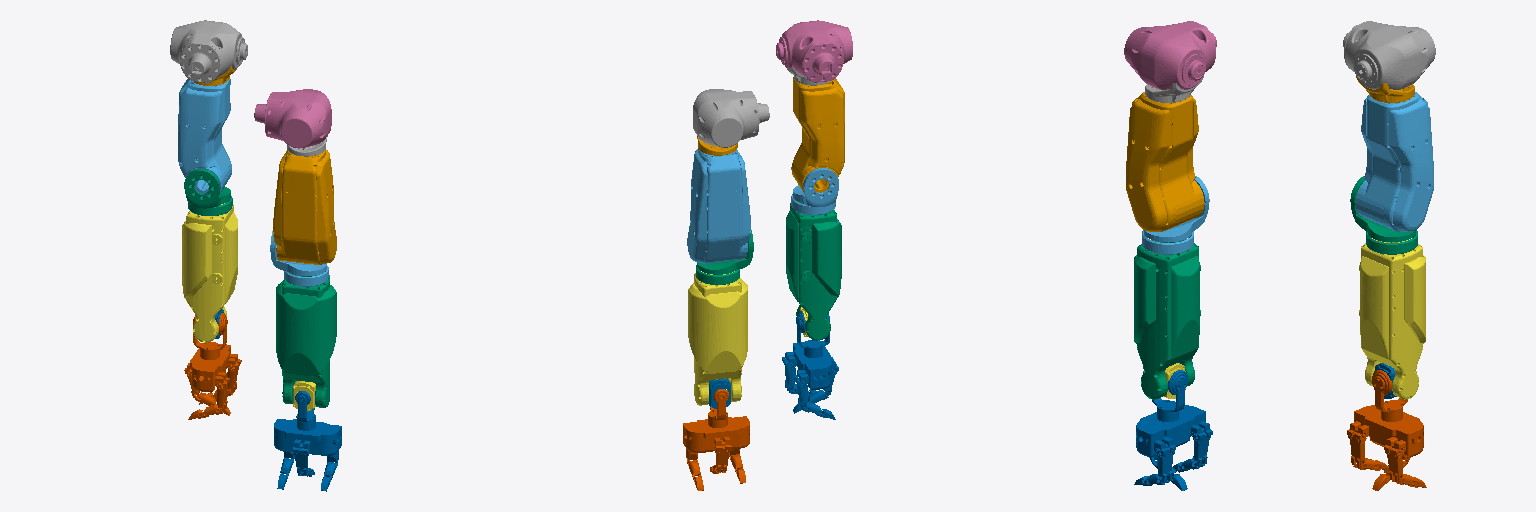
robot.urdf — ocean1:
<?xml version='1.0' encoding='utf-8'?>
<robot name="ocean1">

<!-- ~~~~~~~~~~~~~~~~~~~~~~~~~
TODO: verify conversion from 
axis-angle in yaml to rpy
~~~~~~~~~~~~~~~~~~~~~~~~~ -->

<!-- ~~~~~~~~~~~~~~~~~~~~~~~~~
LINKS: BODY
~~~~~~~~~~~~~~~~~~~~~~~~~ -->

  <link name="ground">
    <inertial>
      <origin xyz="0.0 0.0 0.0" rpy="0.0 0.0 0.0" />
      <mass value="0.000001" />
      <inertia ixx="0.000001" iyy="0.000001" izz="0.000001" ixy="0.0" ixz="0.0" iyz="0.0" />
    </inertial>
  </link>

  <link name="PrisX">
    <inertial>
      <origin xyz="0.0 0.0 0.0" rpy="0.0 0.0 0.0" />
      <mass value="0.000001" />
      <inertia ixx="0.000001" iyy="0.000001" izz="0.000001" ixy="0.0" ixz="0.0" iyz="0.0" />
    </inertial>
  </link>

  <link name="PrisY">
    <inertial>
      <origin xyz="0.0 0.0 0.0" rpy="0.0 0.0 0.0" />
      <mass value="0.000001" />
      <inertia ixx="0.000001" iyy="0.000001" izz="0.000001" ixy="0.0" ixz="0.0" iyz="0.0" />
    </inertial>
  </link>

  <link name="PrisZ">
    <inertial>
      <origin xyz="0.0 0.0 0.0" rpy="0.0 0.0 0.0" />
      <mass value="0.000001" />
      <inertia ixx="0.000001" iyy="0.000001" izz="0.000001" ixy="0.0" ixz="0.0" iyz="0.0" />
    </inertial>
  </link>

  <link name="RotZ">
    <inertial>
      <origin xyz="0.0 0.0 0.0" rpy="0.0 0.0 0.0" />
      <mass value="0.000001" />
      <inertia ixx="0.000001" iyy="0.000001" izz="0.000001" ixy="0.0" ixz="0.0" iyz="0.0" />
    </inertial>
  </link>

  <link name="RotY">
    <inertial>
      <origin xyz="0.0 0.0 0.0" rpy="0.0 0.0 0.0" />
      <mass value="0.000001" />
      <inertia ixx="0.000001" iyy="0.000001" izz="0.000001" ixy="0.0" ixz="0.0" iyz="0.0" />
    </inertial>
  </link>

  <link name="Body">
    <inertial>
      <origin xyz="-0.034400 -0.001100 0.134400" rpy="0.0 0.0 0.0" />
      <mass value="150.810000" />
      <inertia ixx="0.291400" iyy="0.458290" izz="0.369260" ixy="0.0" ixz="0.0" iyz="0.0" />
    </inertial>
    <visual>
      <!-- TODO: FIX SCALING & TEST ORIGIN -->
      <origin xyz="0.095 0 -0.03" rpy="0.0 0.0 0.0" />
      <geometry>
        <!-- <box size="0.1 0.1 0.1" /> -->
        <!-- <mesh filename="ocean1_graphics/body_paint.obj" scale="0.85 0.85 0.85" /> -->
        <!-- <mesh filename="ocean1_graphics/body_paint_no_lamp.obj" scale="0.85 0.85 0.85" /> -->
        <mesh filename="ocean1_graphics/O2_body_new_head.obj" scale="0.85 0.85 0.85" />
      </geometry>
    </visual>
    <!-- <visual>
      <origin xyz="-0.034400 -0.001100 0.134400" rpy="0.0 0.0 0.0" />
      <geometry>
        <box size="0.1 0.1 0.1" />
      </geometry>
    </visual> -->
  </link>

<!-- ~~~~~~~~~~~~~~~~~~~~~~~~~
LINKS: LEFT ARM
~~~~~~~~~~~~~~~~~~~~~~~~~ -->

  <link name="shoulderT_left">
    <inertial>
      <origin xyz="0.022 0.0 0.0" rpy="0.0 0.0 0.0" />
      <mass value="3.12" />
      <inertia ixx="0.00466" iyy="0.00375" izz="0.00288" ixy="0.0" ixz="0.0" iyz="0.0" />
    </inertial>
    <visual>
      <origin xyz="0.0 0.0 0.0" rpy="0.0 0.0 0.0" />
      <geometry>
        <mesh filename="ocean1_graphics/shoulderT_left.obj"/>
      </geometry>
    </visual>
  </link>

  <link name="shoulderL_left">
    <inertial>
      <origin xyz="0.0 -0.021 0.054" rpy="0.0 0.0 0.0" />
      <mass value="0.99" />
      <inertia ixx="0.00466" iyy="0.00375" izz="0.00288" ixy="0.0" ixz="0.0" iyz="0.0" />
    </inertial>
    <visual>
      <origin xyz="0.0 0.0 0.0" rpy="0.0 0.0 0.0" />
      <geometry>
        <mesh filename="ocean1_graphics/shoulderL_left.obj"/>
      </geometry>
    </visual>
  </link>

  <link name="upperArm_left">
    <inertial>
      <origin xyz="0.0 0.0 -0.088" rpy="0.0 0.0 0.0" />
      <mass value="4.08" />
      <inertia ixx="0.00466" iyy="0.00375" izz="0.00288" ixy="0.0" ixz="0.0" iyz="0.0" />
    </inertial>
    <visual>
      <origin xyz="0.0 0.0 0.0" rpy="0.0 0.0 0.0" />
      <geometry>
        <mesh filename="ocean1_graphics/upperArm_left.obj"/>
      </geometry>
    </visual>
  </link>

  <link name="elbow_left">
    <inertial>
      <origin xyz="0.027 0.0 0.047" rpy="0.0 0.0 0.0" />
      <mass value="0.974" />
      <inertia ixx="0.00466" iyy="0.00375" izz="0.00288" ixy="0.0" ixz="0.0" iyz="0.0" />
    </inertial>
    <visual>
      <origin xyz="0.0 0.0 0.0" rpy="0.0 0.0 0.0" />
      <geometry>
        <mesh filename="ocean1_graphics/elbow_left.obj"/>
      </geometry>
    </visual>
  </link>

  <link name="lowerArm_left">
    <inertial>
      <origin xyz="0.0 0.0 -0.138" rpy="0.0 0.0 0.0" />
      <mass value="3.71" />
      <inertia ixx="0.00466" iyy="0.00375" izz="0.00288" ixy="0.0" ixz="0.0" iyz="0.0" />
    </inertial>
    <visual>
      <origin xyz="0.0 0.0 0.0" rpy="0.0 0.0 0.0" />
      <geometry>
        <mesh filename="ocean1_graphics/lowerArm_left.obj"/>
      </geometry>
    </visual>
  </link>

  <link name="wristDiff_left">
    <inertial>
      <origin xyz="0.0 0.0 0.0" rpy="0.0 0.0 0.0" />
      <mass value="0.22" />
      <inertia ixx="0.00466" iyy="0.00375" izz="0.00288" ixy="0.0" ixz="0.0" iyz="0.0" />
    </inertial>
    <visual>
      <origin xyz="0.0 0.0 0.0" rpy="0.0 0.0 0.0" />
      <geometry>
        <mesh filename="ocean1_graphics/wristDiff_left.obj"/>
      </geometry>
    </visual>
  </link>

  <link name="endEffector_left">
    <inertial>
      <origin xyz="0.0 0.0 0.01" rpy="0.0 0.0 0.0" />
      <mass value="2.7874" />
      <inertia ixx="0.00466" iyy="0.00375" izz="0.00288" ixy="0.0" ixz="0.0" iyz="0.0" />
    </inertial>
    <visual>
      <origin xyz="0.0 0.0 0.0" rpy="0.0 0.0 0.0" />
      <geometry>
        <!-- <mesh filename="ocean1_graphics/endEffectorWPalm_left.obj"/> -->
        <!-- <mesh filename="ocean1_graphics/HandO2.obj"/> -->
        <mesh filename="ocean1_graphics/HandO2_small.obj"/>
        <!-- <mesh filename="ocean1_graphics/HandO2_with_flag.obj"/> -->
        <!-- <mesh filename="ocean1_graphics/HandO2_open.obj"/> -->
      </geometry>
    </visual>
    <!-- TODO: implement aabb collision detection (or make coarser collision mesh) -->
    <!-- <collision> -->
      <!-- <origin xyz="0.0 0.0 0.0" rpy="0.0 0.0 0.0" /> -->
      <!-- <geometry> -->
        <!-- <mesh filename="ocean1_graphics/endEffectorWPalm_left.obj"/> -->
        <!-- <mesh filename="ocean1_graphics/HandO2.obj"/> -->
        <!-- <mesh filename="ocean1_graphics/HandO2_small.obj"/> -->
      <!-- </geometry> -->
    <!-- </collision> -->
  </link>

<!-- ~~~~~~~~~~~~~~~~~~~~~~~~~
LINKS: RIGHT ARM
~~~~~~~~~~~~~~~~~~~~~~~~~ -->

  <link name="shoulderT_right">
    <inertial>
      <origin xyz="-0.022 0.0 0.0" rpy="0.0 0.0 0.0" />
      <mass value="3.12" />
      <inertia ixx="0.00466" iyy="0.00375" izz="0.00288" ixy="0.0" ixz="0.0" iyz="0.0" />
    </inertial>
    <visual>
      <origin xyz="0.0 0.0 0.0" rpy="0.0 0.0 0.0" />
      <geometry>
        <mesh filename="ocean1_graphics/shoulderT_right.obj"/>
      </geometry>
    </visual>
  </link>

  <link name="shoulderL_right">
    <inertial>
      <origin xyz="0.0 -0.021 0.054" rpy="0.0 0.0 0.0" />
      <mass value="0.99" />
      <inertia ixx="0.00466" iyy="0.00375" izz="0.00288" ixy="0.0" ixz="0.0" iyz="0.0" />
    </inertial>
    <visual>
      <origin xyz="0.0 0.0 0.0" rpy="0.0 0.0 0.0" />
      <geometry>
        <mesh filename="ocean1_graphics/shoulderL_right.obj"/>
      </geometry>
    </visual>
  </link>

  <link name="upperArm_right">
    <inertial>
      <origin xyz="0.0 0.0 -0.088" rpy="0.0 0.0 0.0" />
      <mass value="4.08" />
      <inertia ixx="0.00466" iyy="0.00375" izz="0.00288" ixy="0.0" ixz="0.0" iyz="0.0" />
    </inertial>
    <visual>
      <origin xyz="0.0 0.0 0.0" rpy="0.0 0.0 0.0" />
      <geometry>
        <mesh filename="ocean1_graphics/upperArm_right.obj"/>
      </geometry>
    </visual>
  </link>

  <link name="elbow_right">
    <inertial>
      <origin xyz="-0.027 0.0 0.047" rpy="0.0 0.0 0.0" />
      <mass value="0.974" />
      <inertia ixx="0.00466" iyy="0.00375" izz="0.00288" ixy="0.0" ixz="0.0" iyz="0.0" />
    </inertial>
    <visual>
      <origin xyz="0.0 0.0 0.0" rpy="0.0 0.0 0.0" />
      <geometry>
        <mesh filename="ocean1_graphics/elbow_right.obj"/>
      </geometry>
    </visual>
  </link>

  <link name="lowerArm_right">
    <inertial>
      <origin xyz="0.0 0.0 -0.138" rpy="0.0 0.0 0.0" />
      <mass value="3.71" />
      <inertia ixx="0.00466" iyy="0.00375" izz="0.00288" ixy="0.0" ixz="0.0" iyz="0.0" />
    </inertial>
    <visual>
      <origin xyz="0.0 0.0 0.0" rpy="0.0 0.0 0.0" />
      <geometry>
        <mesh filename="ocean1_graphics/lowerArm_right.obj"/>
      </geometry>
    </visual>
  </link>

  <link name="wristDiff_right">
    <inertial>
      <origin xyz="0.0 0.0 0.0" rpy="0.0 0.0 0.0" />
      <mass value="0.22" />
      <inertia ixx="0.00466" iyy="0.00375" izz="0.00288" ixy="0.0" ixz="0.0" iyz="0.0" />
    </inertial>
    <visual>
      <origin xyz="0.0 0.0 0.0" rpy="0.0 0.0 0.0" />
      <geometry>
        <mesh filename="ocean1_graphics/wristDiff_right.obj"/>
      </geometry>
    </visual>
  </link>

  <link name="endEffector_right">
    <inertial>
      <origin xyz="0.0 0.0 0.01" rpy="0.0 0.0 0.0" />
      <mass value="2.7874" />
      <inertia ixx="0.00466" iyy="0.00375" izz="0.00288" ixy="0.0" ixz="0.0" iyz="0.0" />
    </inertial>
    <visual>
      <origin xyz="0.0 0.0 0.0" rpy="0.0 0.0 0.0" />
      <geometry>
        <!-- <mesh filename="ocean1_graphics/endEffectorWPalm_right.obj"/> -->
        <!-- <mesh filename="ocean1_graphics/HandO2.obj"/> -->
        <mesh filename="ocean1_graphics/HandO2_small.obj"/>
        <!-- <mesh filename="ocean1_graphics/HandO2_with_flag.obj"/> -->
        <!-- <mesh filename="ocean1_graphics/HandO2_open.obj"/> -->
        <!-- <mesh filename="ocean1_graphics/HandO2_half_open.obj"/> -->
      </geometry>
    </visual>
    <!-- TODO: implement aabb collision detection (or make coarser collision mesh) -->
    <!-- <collision> -->
      <!-- <origin xyz="0.0 0.0 0.0" rpy="0.0 0.0 0.0" /> -->
      <!-- <geometry> -->
        <!-- <mesh filename="ocean1_graphics/endEffectorWPalm_right.obj"/> -->
        <!-- <mesh filename="ocean1_graphics/HandO2.obj"/> -->
        <!-- <mesh filename="ocean1_graphics/HandO2_small.obj"/> -->
        <!-- <mesh filename="ocean1_graphics/HandO2_open.obj"/> -->
      <!-- </geometry> -->
    <!-- </collision> -->
  </link>

<!-- ~~~~~~~~~~~~~~~~~~~~~~~~~
JOINTS: BODY
~~~~~~~~~~~~~~~~~~~~~~~~~ -->

  <joint name="PrisX_Joint" type="prismatic">
    <origin rpy="0.0 0.0 0.0" xyz="0.0 0.0 0.0" />
    <parent link="ground" />
    <child link="PrisX" />
    <axis xyz="1 0 0" />
    <!-- TODO: check that calibration mimics initial_joint_q behavior -->
    <!-- <calibration falling="2.84851" /> -->
    <!-- TODO: change lower, upper, effort, and velocity limits -->
    <limit lower="-500.00" upper="500.00" effort="4000" velocity="1000" />
  </joint>

  <joint name="PrisY_Joint" type="prismatic">
    <origin rpy="0.0 0.0 0.0" xyz="0.0 0.0 0.0" />
    <parent link="PrisX" />
    <child link="PrisY" />
    <axis xyz="0 1 0" />
    <!-- <calibration falling="1.94773" /> -->
    <limit lower="-500.00" upper="500.00" effort="4000" velocity="1000" />
  </joint>

  <joint name="PrisZ_Joint" type="prismatic">
    <origin rpy="0.0 0.0 0.0" xyz="0.0 0.0 0.0" />
    <parent link="PrisY" />
    <child link="PrisZ" />
    <axis xyz="0 0 1" />
    <!-- <calibration falling="0.703213" /> -->
    <limit lower="-500.00" upper="500.00" effort="4000" velocity="1000" />
  </joint>

  <joint name="RotZ_Joint" type="revolute">
    <origin rpy="0.0 0.0 0.0" xyz="0.0 0.0 0.0" />
    <parent link="PrisZ" />
    <child link="RotZ" />
    <axis xyz="0 0 1" />
    <!-- <calibration falling="-185.3157504" /> -->
    <limit lower="-500.00" upper="500.00" effort="4000" velocity="1000" />
  </joint>

  <joint name="RotY_Joint" type="revolute">
    <origin rpy="0.0 0.0 0.0" xyz="0.0 0.0 0.0" />
    <parent link="RotZ" />
    <child link="RotY" />
    <axis xyz="0 1 0" />
    <!-- <calibration falling="0.0"/> -->
    <limit lower="-500.00" upper="500.00" effort="4000" velocity="1000" />
  </joint>

  <joint name="RotX_Joint" type="revolute">
    <origin rpy="0.0 0.0 0.0" xyz="0.0 0.0 0.0" />
    <parent link="RotY" />
    <child link="Body" />
    <axis xyz="1 0 0" />
    <!-- <calibration falling="0.0"/> -->
    <limit lower="-500.00" upper="500.00" effort="4000" velocity="1000" />
  </joint>

<!-- ~~~~~~~~~~~~~~~~~~~~~~~~~
JOINTS: LEFT ARM
~~~~~~~~~~~~~~~~~~~~~~~~~ -->

  <joint name="shoulderT_left_Joint" type="revolute">
    <origin rpy="-3.1415927 0.0 -2.3561935" xyz="0.5768673 0.194584 -0.1893698"/>
    <parent link="Body" />
    <child link="shoulderT_left" />
    <axis xyz="1 0 0" />
    <calibration falling="-22.530476674"/>
    <limit lower="-500.00" upper="500.00" effort="4000" velocity="1000" />
  </joint>

  <joint name="shoulderL_left_Joint" type="revolute">
    <origin rpy="0.0 0.0 0.0" xyz="0.0 0.0 0.0"/>
    <parent link="shoulderT_left" />
    <child link="shoulderL_left" />
    <axis xyz="0 1 0" />
    <calibration falling="-38.938842011"/>
    <limit lower="-500.00" upper="500.00" effort="4000" velocity="1000" />
  </joint>

  <joint name="upperArm_left_Joint" type="revolute">
    <origin rpy="0.0 0.0 0.0" xyz="0.0 0.0 0.281541"/>
    <parent link="shoulderL_left" />
    <child link="upperArm_left" />
    <axis xyz="0 0 1" />
    <calibration falling="-9.5874173775"/>
    <limit lower="-500.00" upper="500.00" effort="4000" velocity="1000" />
  </joint>

  <joint name="elbow_left_Joint" type="revolute">
    <origin rpy="0.0 0.0 0.0" xyz="0.0 0.0 0.0"/>
    <parent link="upperArm_left" />
    <child link="elbow_left" />
    <axis xyz="1 0 0" />
    <calibration falling="86.55788003"/>
    <limit lower="-500.00" upper="500.00" effort="4000" velocity="1000" />
  </joint>

  <joint name="lowerArm_left_Joint" type="revolute">
    <origin rpy="0.0 0.0 0.0" xyz="0.0 0.0 0.331339"/>
    <parent link="elbow_left" />
    <child link="lowerArm_left" />
    <axis xyz="0 0 1" />
    <calibration falling="35.068683992"/>
    <limit lower="-500.00" upper="500.00" effort="4000" velocity="1000" />
  </joint>

  <joint name="wristDiff_left_Joint" type="revolute">
    <origin rpy="0.0 0.0 0.0" xyz="0.0 0.0 0.0"/>
    <parent link="lowerArm_left" />
    <child link="wristDiff_left" />
    <axis xyz="1 0 0" />
    <calibration falling="-32.703571509"/>
    <limit lower="-500.00" upper="500.00" effort="4000" velocity="1000" />
  </joint>

  <joint name="endEffector_left_Joint" type="revolute">
    <origin rpy="0.0 0.0 0.0" xyz="0.0 0.0 0.0"/>
    <parent link="wristDiff_left" />
    <child link="endEffector_left" />
    <axis xyz="0 1 0" />
    <calibration falling="-22.68013325"/>
    <limit lower="-500.00" upper="500.00" effort="4000" velocity="1000" />
  </joint>

<!-- ~~~~~~~~~~~~~~~~~~~~~~~~~
JOINTS: RIGHT ARM
~~~~~~~~~~~~~~~~~~~~~~~~~ -->

  <joint name="shoulderT_right_Joint" type="revolute">
    <origin rpy="3.1415927 0.0 -0.7853991" xyz="0.5768673 -0.194584 -0.1893698"/>
    <parent link="Body" />
    <child link="shoulderT_right" />
    <axis xyz="1 0 0" />
    <calibration falling="-22.451580385"/>
    <limit lower="-500.00" upper="500.00" effort="4000" velocity="1000" />
  </joint>

  <joint name="shoulderL_right_Joint" type="revolute">
    <origin rpy="0.0 0.0 0.0" xyz="0.0 0.0 0.0"/>
    <parent link="shoulderT_right" />
    <child link="shoulderL_right" />
    <axis xyz="0 1 0" />
    <calibration falling="38.858341441"/>
    <limit lower="-500.00" upper="500.00" effort="4000" velocity="1000" />
  </joint>

  <joint name="upperArm_right_Joint" type="revolute">
    <origin rpy="0.0 0.0 0.0" xyz="0.0 0.0 0.281541"/>
    <parent link="shoulderL_right" />
    <child link="upperArm_right" />
    <axis xyz="0 0 1" />
    <calibration falling="9.6591516935"/>
    <limit lower="-500.00" upper="500.00" effort="4000" velocity="1000" />
  </joint>

  <joint name="elbow_right_Joint" type="revolute">
    <origin rpy="0.0 0.0 0.0" xyz="0.0 0.0 0.0"/>
    <parent link="upperArm_right" />
    <child link="elbow_right" />
    <axis xyz="1 0 0" />
    <calibration falling="86.49771946"/>
    <limit lower="-500.00" upper="500.00" effort="4000" velocity="1000" />
  </joint>

  <joint name="lowerArm_right_Joint" type="revolute">
    <origin rpy="0.0 0.0 0.0" xyz="0.0 0.0 0.331339"/>
    <parent link="elbow_right" />
    <child link="lowerArm_right" />
    <axis xyz="0 0 1" />
    <calibration falling="-35.222695047"/>
    <limit lower="-500.00" upper="500.00" effort="4000" velocity="1000" />
  </joint>

  <joint name="wristDiff_right_Joint" type="revolute">
    <origin rpy="0.0 0.0 0.0" xyz="0.0 0.0 0.0"/>
    <parent link="lowerArm_right" />
    <child link="wristDiff_right" />
    <axis xyz="1 0 0" />
    <calibration falling="-32.634014433"/>
    <limit lower="-500.00" upper="500.00" effort="4000" velocity="1000" />
  </joint>

  <joint name="endEffector_right_Joint" type="revolute">
    <origin rpy="0.0 0.0 0.0" xyz="0.0 0.0 0.0"/>
    <parent link="wristDiff_right" />
    <child link="endEffector_right" />
    <axis xyz="0 1 0" />
    <calibration falling="22.559812113"/>
    <limit lower="-500.00" upper="500.00" effort="4000" velocity="1000" />
  </joint>

</robot>

--- Render facts (derived) ---
Views: 3 orthographic renders of the robot side by side, from view 1: azimuth 30°, elevation 25°; view 2: azimuth 150°, elevation 25°; view 3: azimuth 270°, elevation 25°.
Model ocean1 with 21 links and 20 joints (17 revolute, 3 prismatic), rooted at ground, posed all joints at 0.
Visible links, largest first — view 1: upperArm_right, lowerArm_right, lowerArm_left, upperArm_left, shoulderT_left, endEffector_right, shoulderT_right, endEffector_left, elbow_left, elbow_right; view 2: upperArm_left, lowerArm_left, lowerArm_right, upperArm_right, shoulderT_right, endEffector_left, shoulderT_left, endEffector_right, elbow_right, elbow_left; view 3: upperArm_left, upperArm_right, lowerArm_left, lowerArm_right, endEffector_left, endEffector_right, shoulderT_left, shoulderT_right, elbow_right, elbow_left, shoulderL_left, shoulderL_right.
Link boxes in pixels (x1,y1,x2,y2): upperArm_right: (273,150,336,264); lowerArm_right: (276,273,336,407); lowerArm_left: (182,203,237,342); upperArm_left: (178,79,231,196); shoulderT_left: (170,20,247,82); endEffector_right: (274,391,341,491); shoulderT_right: (254,89,331,148); endEffector_left: (184,313,241,419); elbow_left: (184,169,232,215); elbow_right: (270,231,328,286); upperArm_left: (687,148,750,263); lowerArm_left: (688,271,747,405); lowerArm_right: (786,201,841,340); upperArm_right: (791,77,844,195); shoulderT_right: (776,20,852,82); endEffector_left: (683,389,749,490); shoulderT_left: (693,89,769,147); endEffector_right: (782,311,838,419); elbow_right: (791,168,838,214); elbow_left: (696,230,753,284); upperArm_left: (1355,92,1433,231); upperArm_right: (1126,92,1204,231); lowerArm_left: (1359,239,1425,399); lowerArm_right: (1134,239,1200,399); endEffector_left: (1347,370,1426,490); endEffector_right: (1134,370,1212,490); shoulderT_left: (1343,21,1435,89); shoulderT_right: (1124,21,1216,89); elbow_right: (1142,176,1209,254); elbow_left: (1350,176,1417,254); shoulderL_left: (1356,76,1414,102); shoulderL_right: (1145,76,1203,102).
Bounding box of the posed robot: 0.1638 × 0.5413 × 0.866 m (x, y, z).
14 mesh visuals loaded from 14 distinct referenced files (13 OBJ); not drawn: 1 (reference not matched to a file when rendering).